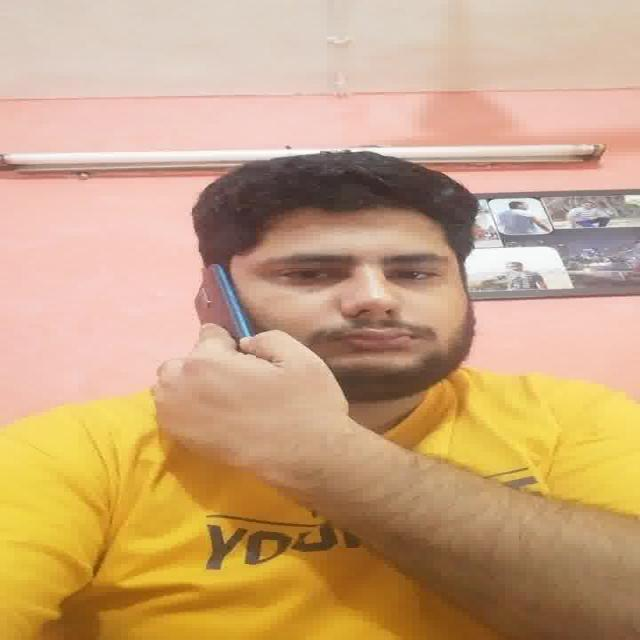Phone: (190, 261, 254, 356)
